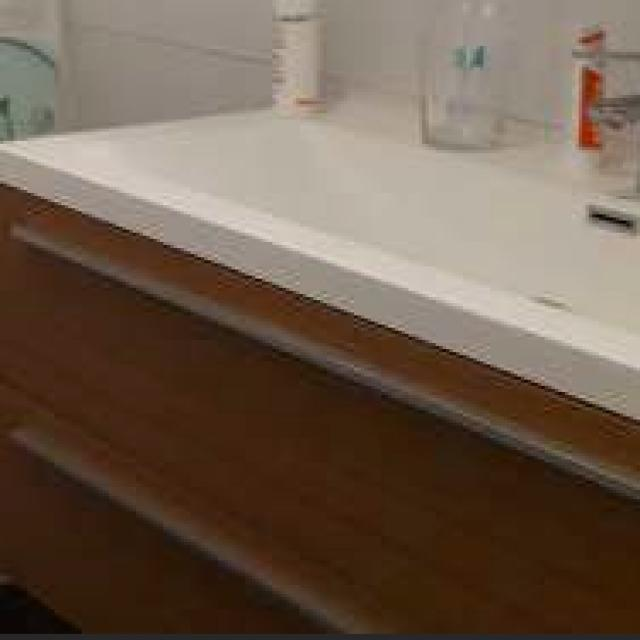wastafel: (0, 180, 640, 640), (0, 44, 640, 418)
